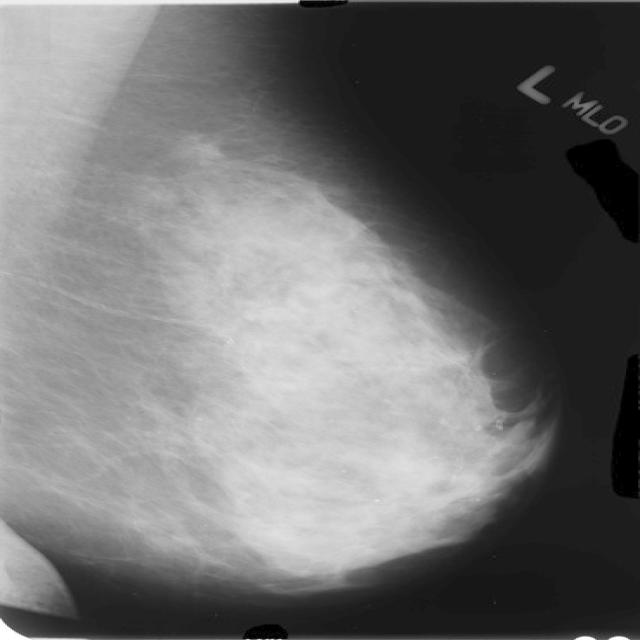tumour: (170, 135, 224, 163)
